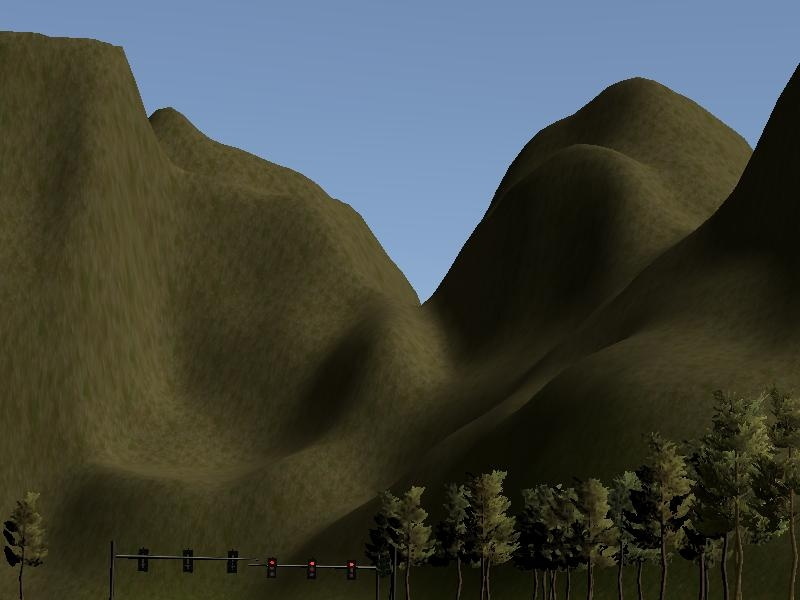red: (305, 556, 320, 583), (266, 556, 278, 581), (347, 560, 357, 580)
